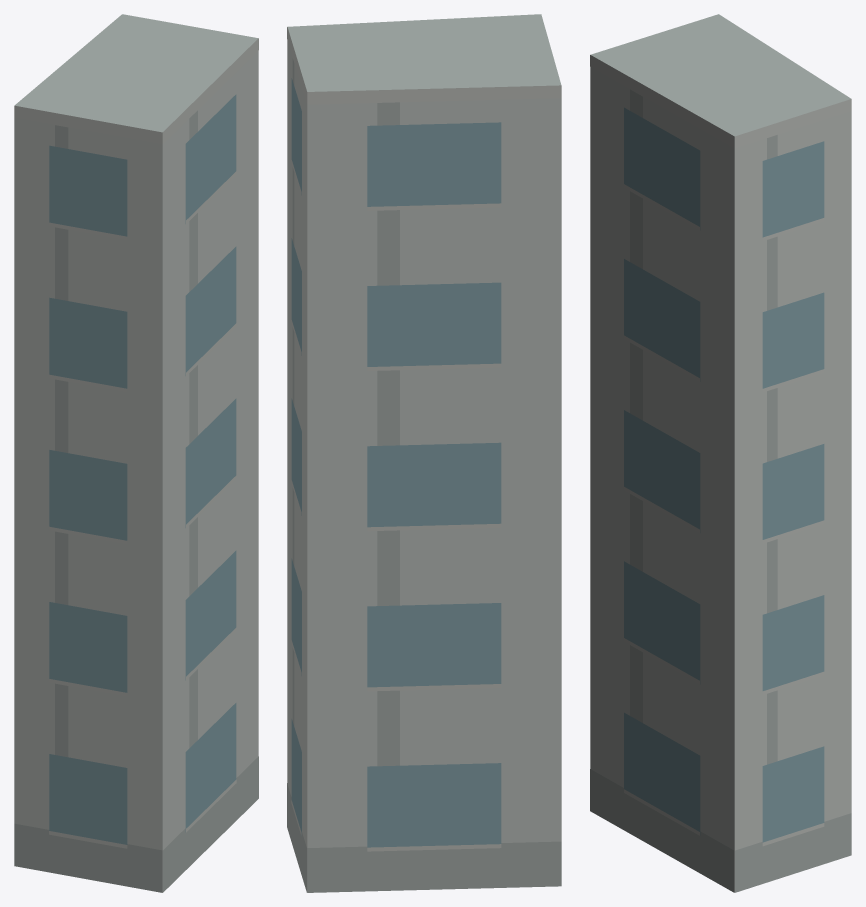
Rendered from survey-upis-32624122.glb.
3 views of the same model, side by side, from view 1: azimuth 30°, elevation 25°; view 2: azimuth 150°, elevation 25°; view 3: azimuth 270°, elevation 25° (orthographic). The views are drawn at different scales.
Visible parts, largest first — view 1: survey-upis-32624122.tmp; view 2: survey-upis-32624122.tmp; view 3: survey-upis-32624122.tmp.
Boxes of the visible parts, x1,y1,x2,y2 form: survey-upis-32624122.tmp: [14, 14, 258, 892]; survey-upis-32624122.tmp: [287, 14, 561, 892]; survey-upis-32624122.tmp: [590, 14, 851, 892].
Bounding box in the file's own units: 5.3 × 15.25 × 4.78.
